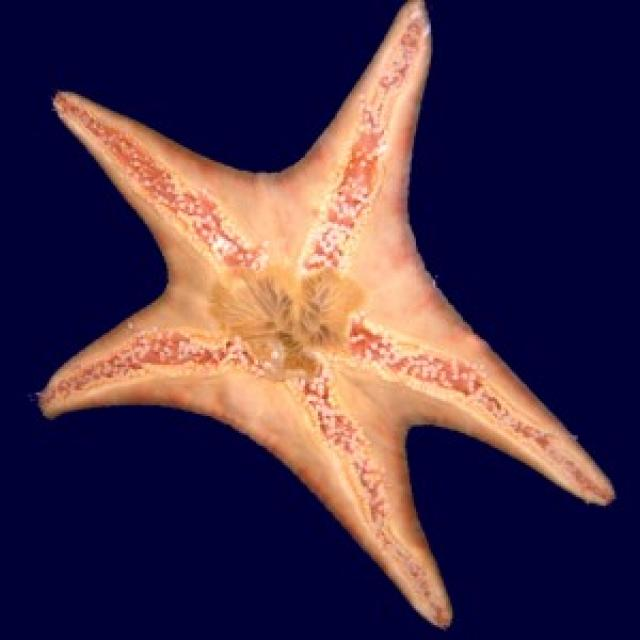Starfish: (36, 0, 612, 628)
